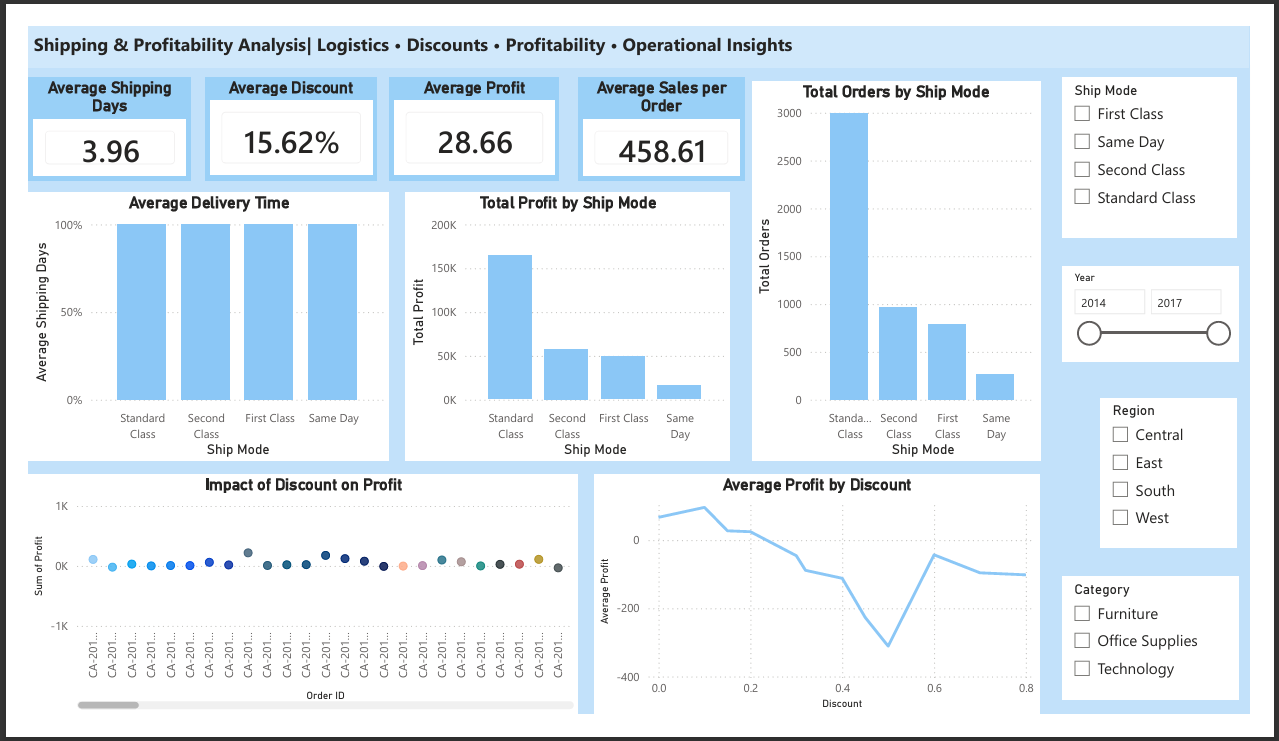

Layout of this report page (visuals, bound fields, positions):
{"tool":"powerbi","page":{"name":"Shipping & Profitability","canvas":[1280,720],"ordinal":3},"visuals":[{"type":"textbox","box":[0,0,1279.4,43.5],"z":0},{"type":"slicer","fields":{"Values":["DateTable.Year"]},"box":[1082.8,251.3,185.2,100.2],"z":1000},{"type":"slicer","fields":{"Values":["SuperstoreSales.Region"]},"box":[1122.5,389.3,143.6,156.9],"z":2000},{"type":"slicer","fields":{"Values":["SuperstoreSales.Category"]},"box":[1082.8,576.4,185.2,128.5],"z":3000},{"type":"slicer","fields":{"Values":["SuperstoreSales.Ship Mode"]},"box":[1082.8,52.9,183.3,168.2],"z":4000},{"type":"cardVisual","title":"Average Shipping Days","fields":{"Data":["SuperstoreSales.Average Shipping Days"]},"box":[0,52.9,170.1,107.7],"z":5000},{"type":"cardVisual","title":"Average Discount","fields":{"Data":["SuperstoreSales.Average Discount"]},"box":[185.2,52.9,179.5,107.7],"z":6000},{"type":"cardVisual","title":"Average Profit","fields":{"Data":["SuperstoreSales.Average Profit"]},"box":[378,52.9,177.6,107.7],"z":7000},{"type":"cardVisual","title":"Average Sales per Order","fields":{"Data":["SuperstoreSales.Average Sales per Order"]},"box":[576.4,52.9,173.9,107.7],"z":8000},{"type":"clusteredColumnChart","fields":{"Category":["SuperstoreSales.Ship Mode"],"Y":["SuperstoreSales.Total Orders"]},"box":[757.8,56.7,302.4,398.7],"z":9000},{"type":"hundredPercentStackedColumnChart","title":"Average Delivery Time","fields":{"Category":["SuperstoreSales.Ship Mode"],"Y":["SuperstoreSales.Average Shipping Days"]},"box":[0,173.9,378,281.6],"z":10000},{"type":"scatterChart","title":"Impact of Discount on Profit","fields":{"X":["SuperstoreSales.Order ID"],"Y":["Sum(SuperstoreSales.Profit)"]},"box":[0,468.7,576.4,251.3],"z":11000},{"type":"clusteredColumnChart","fields":{"Y":["SuperstoreSales.Total Profit"],"Category":["SuperstoreSales.Ship Mode"]},"box":[395,173.9,340.2,281.6],"z":12000},{"type":"lineChart","fields":{"Category":["SuperstoreSales.Discount"],"Y":["SuperstoreSales.Average Profit"]},"box":[593.4,468.7,466.8,251.3],"z":13000}]}

Visuals, with their boxes in screenshot pixels (x1, y1, x2, y2), scaled from the page's 1280x720 canvas onto the 1279x741 screenshot:
textbox: (x1=0, y1=0, x2=1278, y2=45)
slicer - DateTable.Year: (x1=1082, y1=259, x2=1267, y2=362)
slicer - SuperstoreSales.Region: (x1=1122, y1=401, x2=1265, y2=562)
slicer - SuperstoreSales.Category: (x1=1082, y1=593, x2=1267, y2=725)
slicer - SuperstoreSales.Ship Mode: (x1=1082, y1=54, x2=1265, y2=228)
"Average Shipping Days" cardVisual: (x1=0, y1=54, x2=170, y2=165)
"Average Discount" cardVisual: (x1=185, y1=54, x2=364, y2=165)
"Average Profit" cardVisual: (x1=378, y1=54, x2=555, y2=165)
"Average Sales per Order" cardVisual: (x1=576, y1=54, x2=750, y2=165)
clusteredColumnChart - SuperstoreSales.Ship Mode x SuperstoreSales.Total Orders: (x1=757, y1=58, x2=1059, y2=469)
"Average Delivery Time" hundredPercentStackedColumnChart: (x1=0, y1=179, x2=378, y2=469)
"Impact of Discount on Profit" scatterChart: (x1=0, y1=482, x2=576, y2=740)
clusteredColumnChart - SuperstoreSales.Total Profit x SuperstoreSales.Ship Mode: (x1=395, y1=179, x2=735, y2=469)
lineChart - SuperstoreSales.Discount x SuperstoreSales.Average Profit: (x1=593, y1=482, x2=1059, y2=740)
